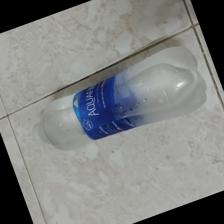Aquafina: (34, 45, 207, 159)
